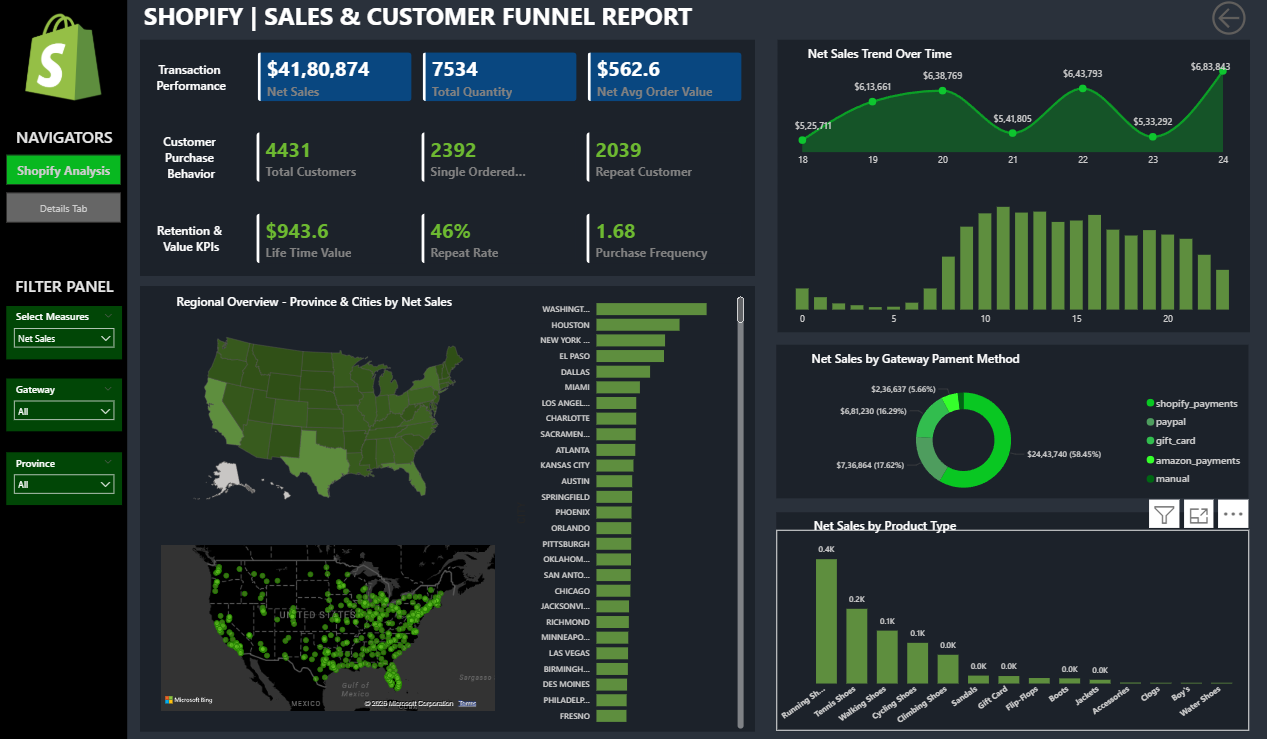

What the dashboard file says about the page in this screenshot:
{"tool":"powerbi","page":{"name":"Shopify Analysis","canvas":[1700,1000],"ordinal":0},"visuals":[{"type":"shape","box":[0,0,169.7,1000.3],"z":0},{"type":"textbox","box":[185.9,0,746.7,58.3],"z":1000},{"type":"shape","box":[186,58,820,315],"z":2000},{"type":"cardVisual","fields":{"Data":["shopify_sales.Net Sales","shopify_sales.Total Quantity","shopify_sales.Net Avg Order Value"]},"box":[326.1,58.3,680.5,99.2],"z":3000},{"type":"card","fields":{"Values":["shopify_sales.Transaction Perf"]},"box":[184.4,71.1,140,73.3],"z":4000},{"type":"cardVisual","fields":{"Data":["shopify_sales.Total Customers","shopify_sales.Single Ordered Customer","shopify_sales.Repeat Customer"]},"box":[325.6,165.4,681.1,100],"z":5000},{"type":"card","fields":{"Values":["shopify_sales.Customer Purchase Behavior"]},"box":[185.6,167.8,140,87.8],"z":6000},{"type":"cardVisual","fields":{"Data":["shopify_sales.Life Time Value","shopify_sales.Repeat Rate","shopify_sales.Purchase Frequency"]},"box":[324.4,273.3,681.1,100],"z":7000},{"type":"card","fields":{"Values":["shopify_sales.Retention & Value KPIs"]},"box":[185.6,278.9,140,87.8],"z":8000},{"type":"shape","box":[187.1,387.1,820,594.3],"z":9000},{"type":"shapeMap","fields":{"Value":["shopify_sales.Net Sales"],"Category":["shopify_sales.Billing Address Province"]},"box":[210,438.6,455.7,250],"z":10000},{"type":"slicer","fields":{"Values":["Select Measures.Select Measures"]},"box":[7.9,412.7,154.4,70.9],"z":11000},{"type":"map","fields":{"Category":["shopify_sales.Location"]},"box":[210,726.7,455,231.7],"z":12000},{"type":"clusteredBarChart","fields":{"Y":["shopify_sales.Net Sales"],"Category":["shopify_sales.CITY"]},"box":[681.2,387.5,315,593.8],"z":13000},{"type":"card","fields":{"Values":["shopify_sales.Map Title"]},"box":[185,388.3,468.3,41.7],"z":14000},{"type":"shape","box":[1036.7,58.3,630,390],"z":15000},{"type":"areaChart","fields":{"Y":["shopify_sales.Net Sales"],"Category":["shopify_sales.Invoice Date.Variation.Date Hierarchy.Day"]},"box":[1055.5,77.2,590.7,160.7],"z":16000},{"type":"columnChart","fields":{"Y":["shopify_sales.Net Sales"],"Category":["shopify_sales.Hour"]},"box":[1055,253.3,590,195],"z":17000},{"type":"card","fields":{"Values":["shopify_sales.Trend Title"]},"box":[1036,58.9,273,41.9],"z":18000},{"type":"shape","box":[1034.4,465.3,629.7,205],"z":19000},{"type":"donutChart","fields":{"Y":["shopify_sales.Net Sales"],"Category":["shopify_sales.Gateway"]},"box":[1036.2,507.5,631.5,171.3],"z":20000},{"type":"card","fields":{"Values":["shopify_sales.Gateway Title"]},"box":[1036.2,465.1,368.8,41],"z":21000},{"type":"shape","box":[1034.6,688.6,629.9,292.1],"z":22000},{"type":"columnChart","fields":{"Y":["shopify_sales.Net Sales"],"Category":["shopify_sales.Product Type"]},"box":[1034.6,711.5,629.9,269.2],"z":23000},{"type":"card","fields":{"Values":["shopify_sales.Product Title"]},"box":[1036.2,688.6,287.2,40.8],"z":24000},{"type":"slicer","fields":{"Values":["shopify_sales.Gateway"]},"box":[8.2,510.8,154,70],"z":25000},{"type":"slicer","fields":{"Values":["shopify_sales.Billing Address Province"]},"box":[8.2,608.7,154,70],"z":26000},{"type":"image","box":[21.2,22.8,125.6,115.9],"z":27000},{"type":"actionButton","box":[1610.6,0,57.1,58.7],"z":28000},{"type":"pageNavigator","box":[8.2,212.1,153.4,91.4],"z":29000},{"type":"textbox","box":[8.2,168.1,155,39.2],"z":30000},{"type":"textbox","box":[8.2,367.2,155,39.2],"z":31000}]}

Visuals, with their boxes on the page's 1700x1000 design canvas (x1, y1, x2, y2). These are canvas units, not pixel positions in the 1267x739 screenshot, which may show the page scaled, cropped or inside an application window:
shape: {"left": 0, "top": 0, "right": 170, "bottom": 1000}
textbox: {"left": 186, "top": 0, "right": 933, "bottom": 58}
shape: {"left": 186, "top": 58, "right": 1006, "bottom": 373}
cardVisual - shopify_sales.Net Sales x shopify_sales.Total Quantity: {"left": 326, "top": 58, "right": 1007, "bottom": 158}
card - shopify_sales.Transaction Perf: {"left": 184, "top": 71, "right": 324, "bottom": 144}
cardVisual - shopify_sales.Total Customers x shopify_sales.Single Ordered Customer: {"left": 326, "top": 165, "right": 1007, "bottom": 265}
card - shopify_sales.Customer Purchase Behavior: {"left": 186, "top": 168, "right": 326, "bottom": 256}
cardVisual - shopify_sales.Life Time Value x shopify_sales.Repeat Rate: {"left": 324, "top": 273, "right": 1006, "bottom": 373}
card - shopify_sales.Retention & Value KPIs: {"left": 186, "top": 279, "right": 326, "bottom": 367}
shape: {"left": 187, "top": 387, "right": 1007, "bottom": 981}
shapeMap - shopify_sales.Net Sales x shopify_sales.Billing Address Province: {"left": 210, "top": 439, "right": 666, "bottom": 689}
slicer - Select Measures.Select Measures: {"left": 8, "top": 413, "right": 162, "bottom": 484}
map - shopify_sales.Location: {"left": 210, "top": 727, "right": 665, "bottom": 958}
clusteredBarChart - shopify_sales.Net Sales x shopify_sales.CITY: {"left": 681, "top": 388, "right": 996, "bottom": 981}
card - shopify_sales.Map Title: {"left": 185, "top": 388, "right": 653, "bottom": 430}
shape: {"left": 1037, "top": 58, "right": 1667, "bottom": 448}
areaChart - shopify_sales.Net Sales x shopify_sales.Invoice Date.Variation.Date Hierarchy.Day: {"left": 1056, "top": 77, "right": 1646, "bottom": 238}
columnChart - shopify_sales.Net Sales x shopify_sales.Hour: {"left": 1055, "top": 253, "right": 1645, "bottom": 448}
card - shopify_sales.Trend Title: {"left": 1036, "top": 59, "right": 1309, "bottom": 101}
shape: {"left": 1034, "top": 465, "right": 1664, "bottom": 670}
donutChart - shopify_sales.Net Sales x shopify_sales.Gateway: {"left": 1036, "top": 508, "right": 1668, "bottom": 679}
card - shopify_sales.Gateway Title: {"left": 1036, "top": 465, "right": 1405, "bottom": 506}
shape: {"left": 1035, "top": 689, "right": 1664, "bottom": 981}
columnChart - shopify_sales.Net Sales x shopify_sales.Product Type: {"left": 1035, "top": 712, "right": 1664, "bottom": 981}
card - shopify_sales.Product Title: {"left": 1036, "top": 689, "right": 1323, "bottom": 729}
slicer - shopify_sales.Gateway: {"left": 8, "top": 511, "right": 162, "bottom": 581}
slicer - shopify_sales.Billing Address Province: {"left": 8, "top": 609, "right": 162, "bottom": 679}
image: {"left": 21, "top": 23, "right": 147, "bottom": 139}
actionButton: {"left": 1611, "top": 0, "right": 1668, "bottom": 59}
pageNavigator: {"left": 8, "top": 212, "right": 162, "bottom": 304}
textbox: {"left": 8, "top": 168, "right": 163, "bottom": 207}
textbox: {"left": 8, "top": 367, "right": 163, "bottom": 406}
